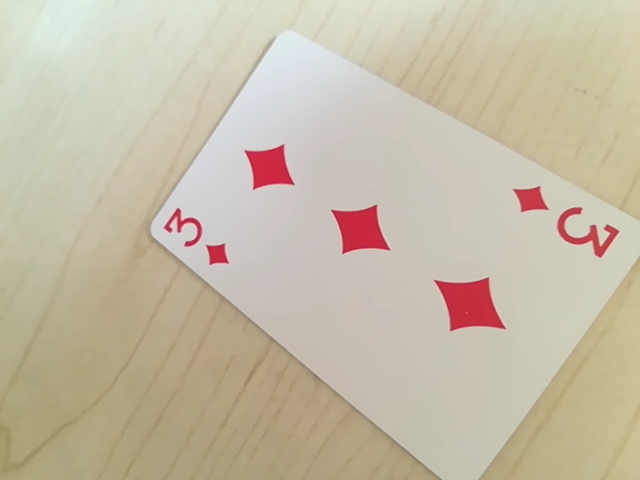fk 3: (512, 195, 622, 261), (153, 210, 224, 266)
